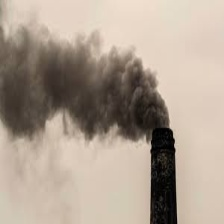smoke: (2, 25, 172, 128)
